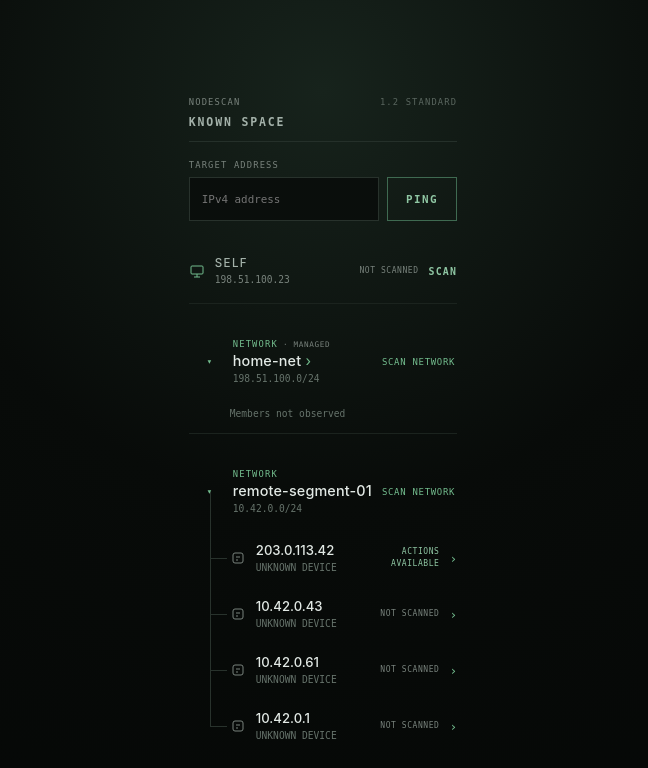
Test: NodeScan target topology › summarizes other remembered foreign members by address, since no operation observes a display name, without leaking the selected or hidden Devices
Click the button with aria-label "Open target 203.0.113.42" at coordinates (344, 558), box x1=230 y1=530 x2=457 y2=586
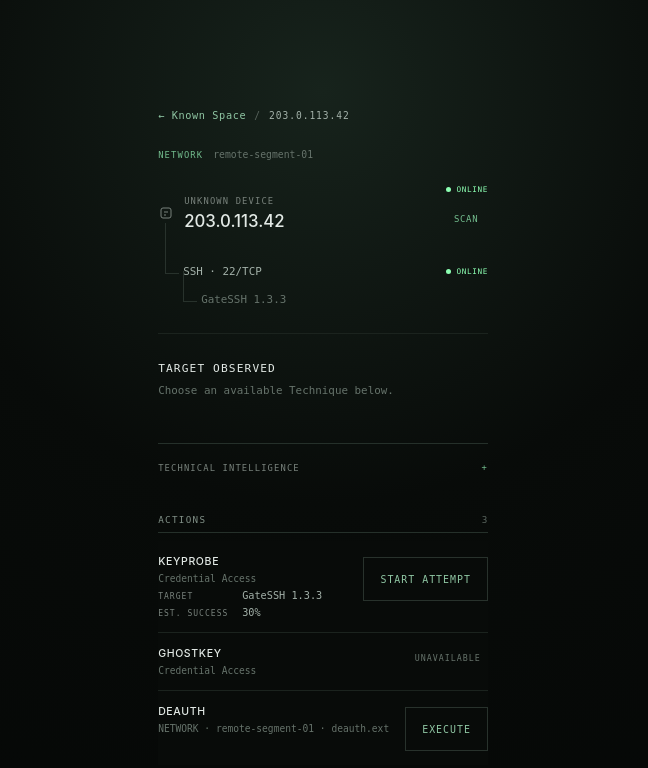
Expected: the element named "Target topology" shows "remote-segment-01", x1=213 y1=149 x2=313 y2=160
Expected: the element named "Target topology" no longer shows "10.42.0.61", x1=158 y1=145 x2=488 y2=313
Expected: the element named "Target topology" no longer shows "10.42.0.43", x1=158 y1=145 x2=488 y2=313
